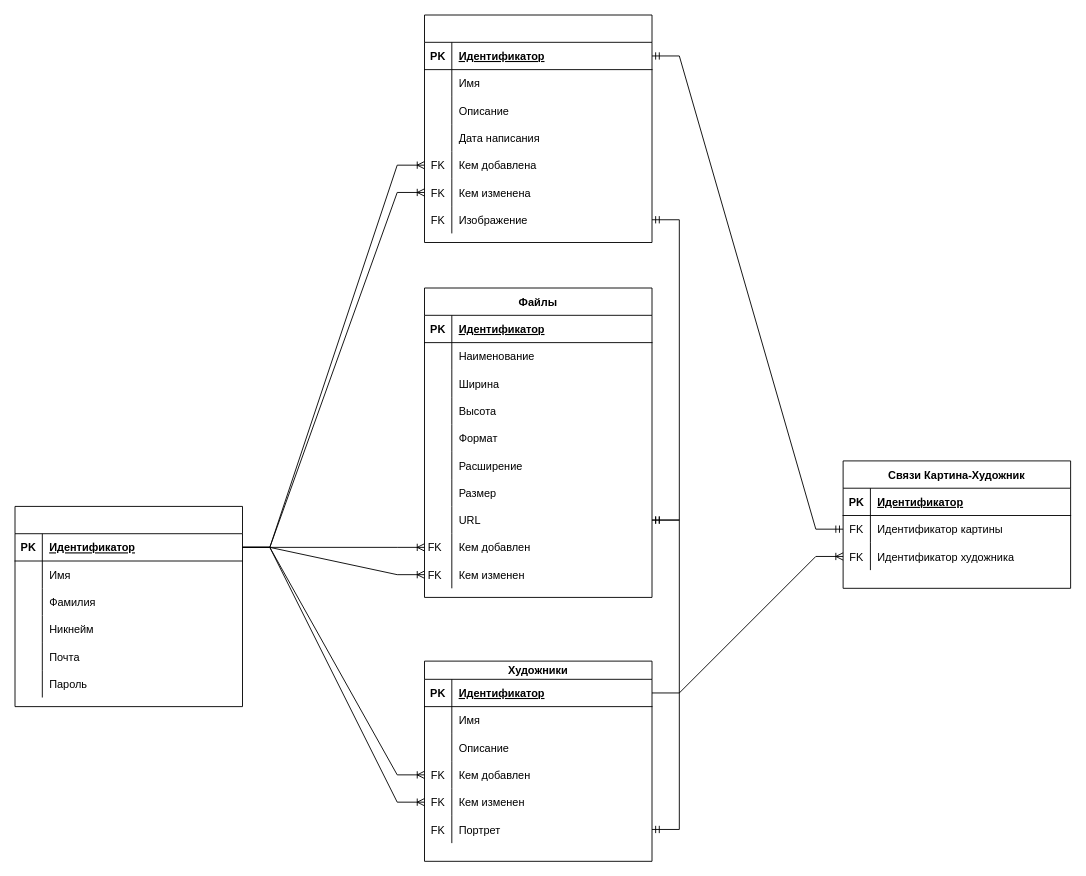
The diagram is 1086 pixels wide and 876 high, and some of its shapes have lost their labels. Here are the shapes that lost their labels. From the top down, the box of each, then its label:
(424, 14, 652, 243): Картины
(14, 506, 243, 707): Администратор
